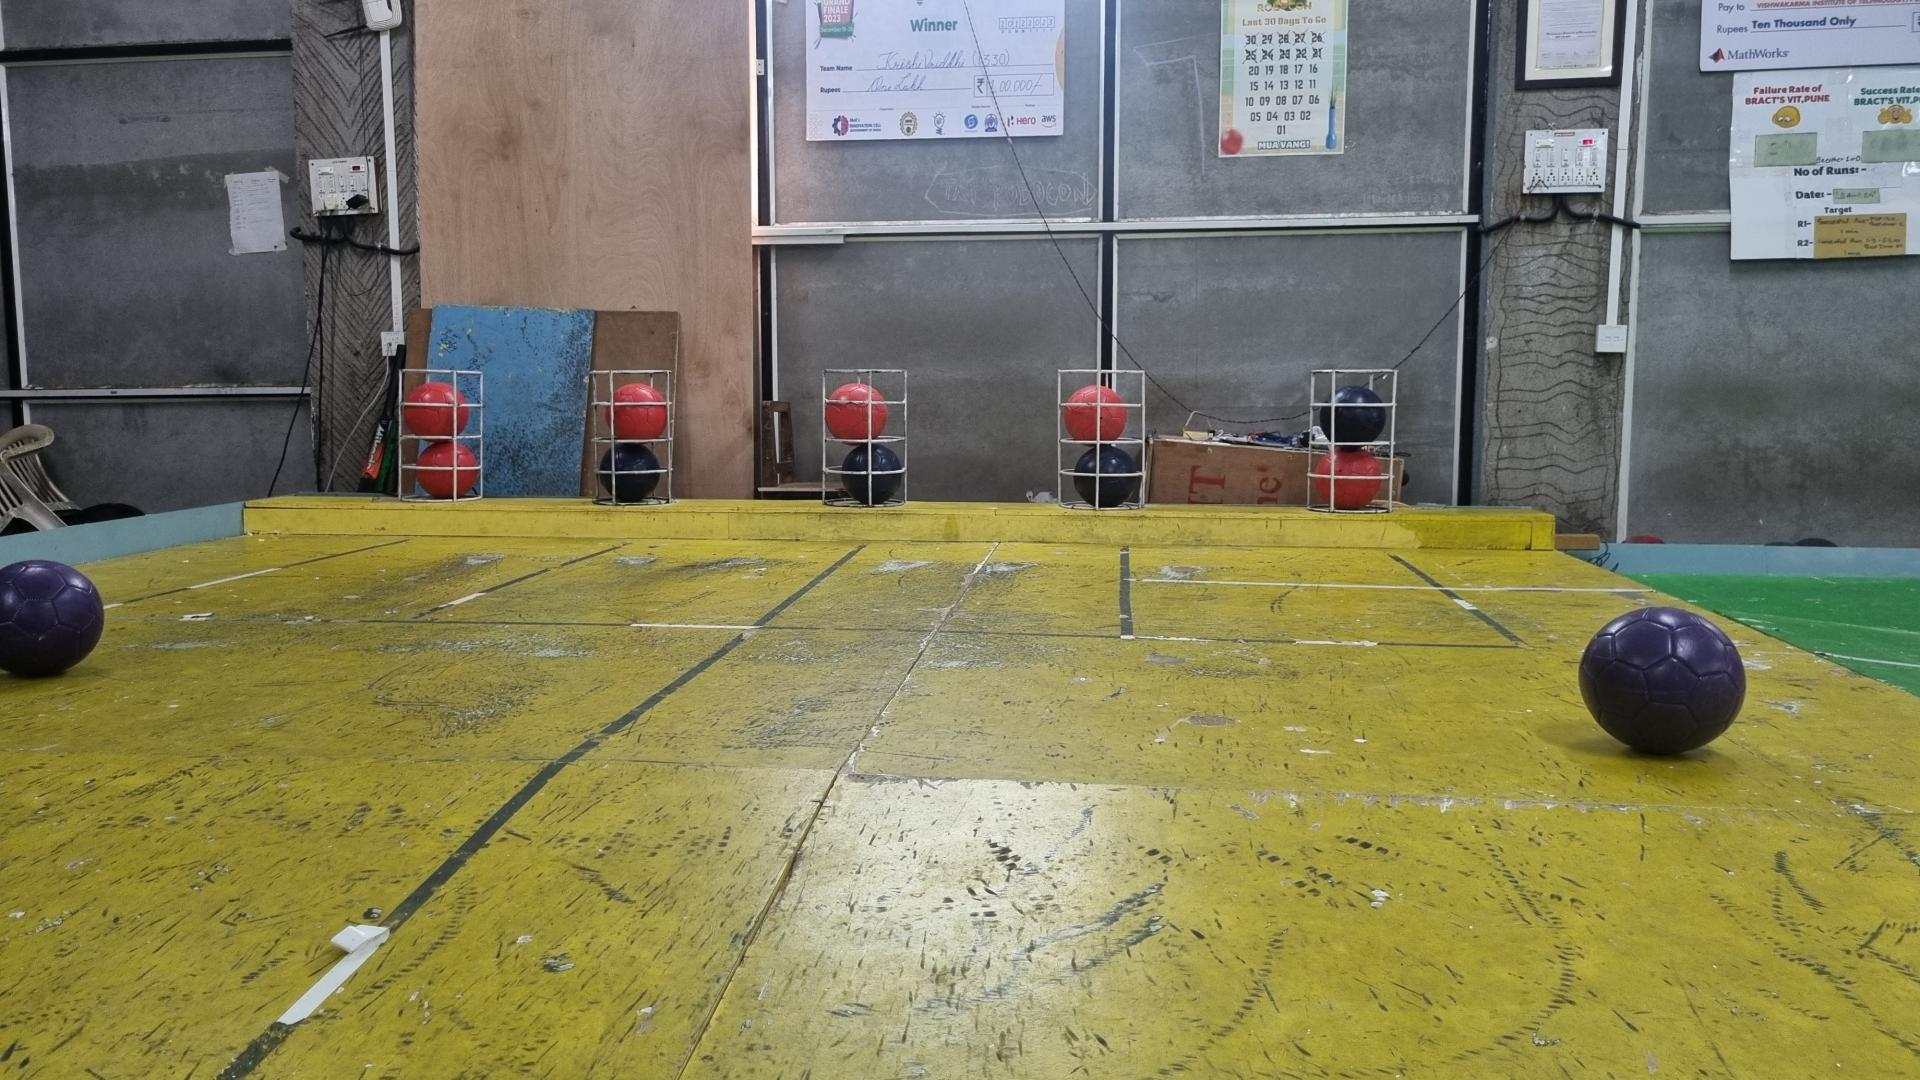dhoka: (1072, 446, 1139, 509), (840, 442, 903, 506), (1316, 386, 1387, 442), (596, 442, 659, 502)
laale: (1312, 450, 1383, 509), (825, 382, 889, 442), (1062, 386, 1129, 442), (417, 442, 480, 498), (608, 382, 667, 442), (405, 382, 468, 438)
